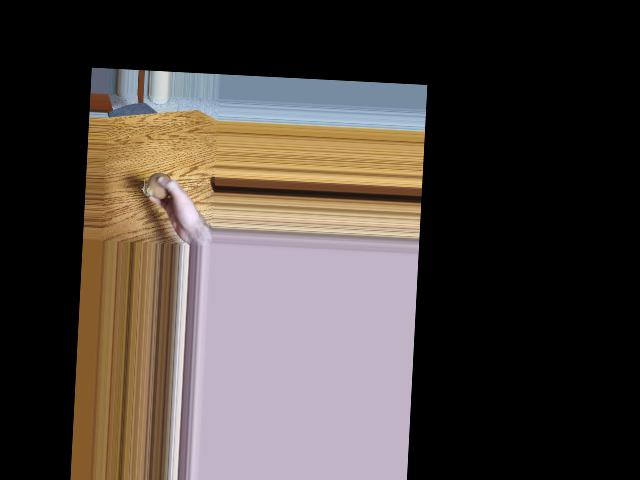onion: (148, 173, 170, 195)
